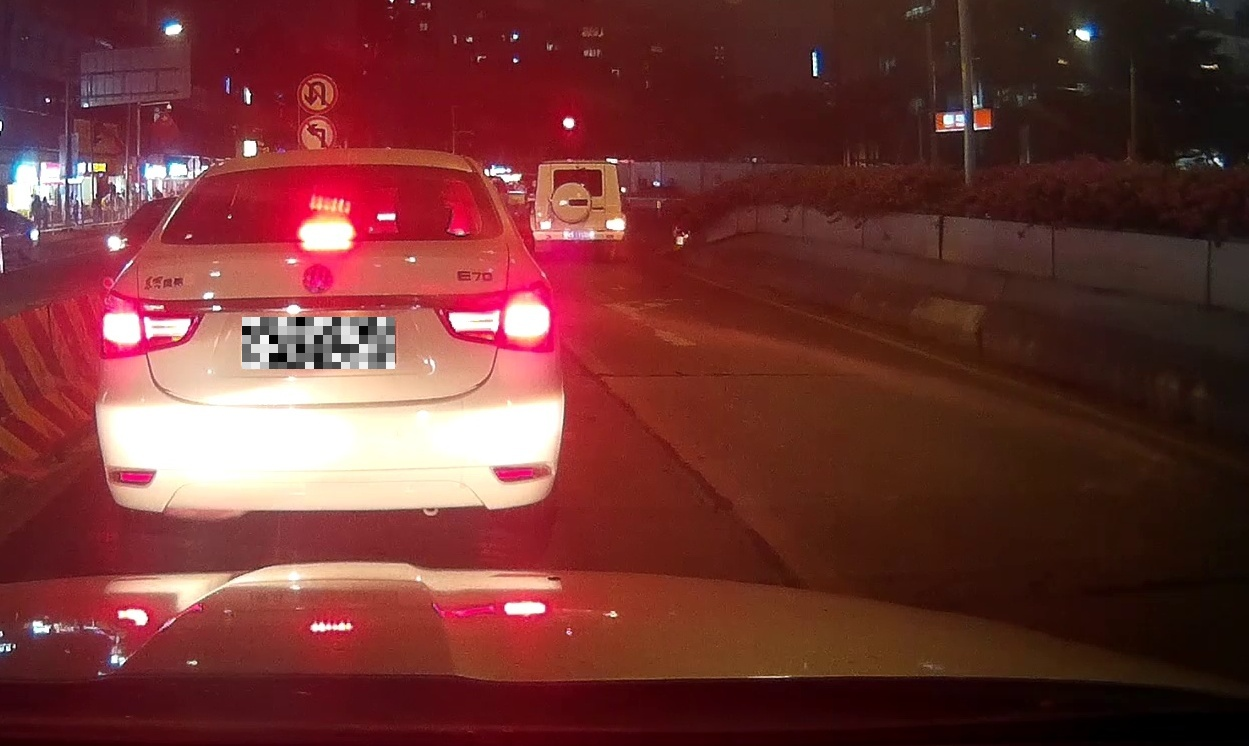L_light: (99, 290, 205, 358)
R_light: (432, 280, 556, 353)
T_light: (296, 220, 356, 239)
night-brake: (94, 148, 564, 556)
plate_1: (242, 317, 395, 369)
